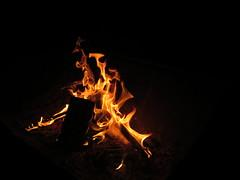fire: (27, 42, 155, 162)
